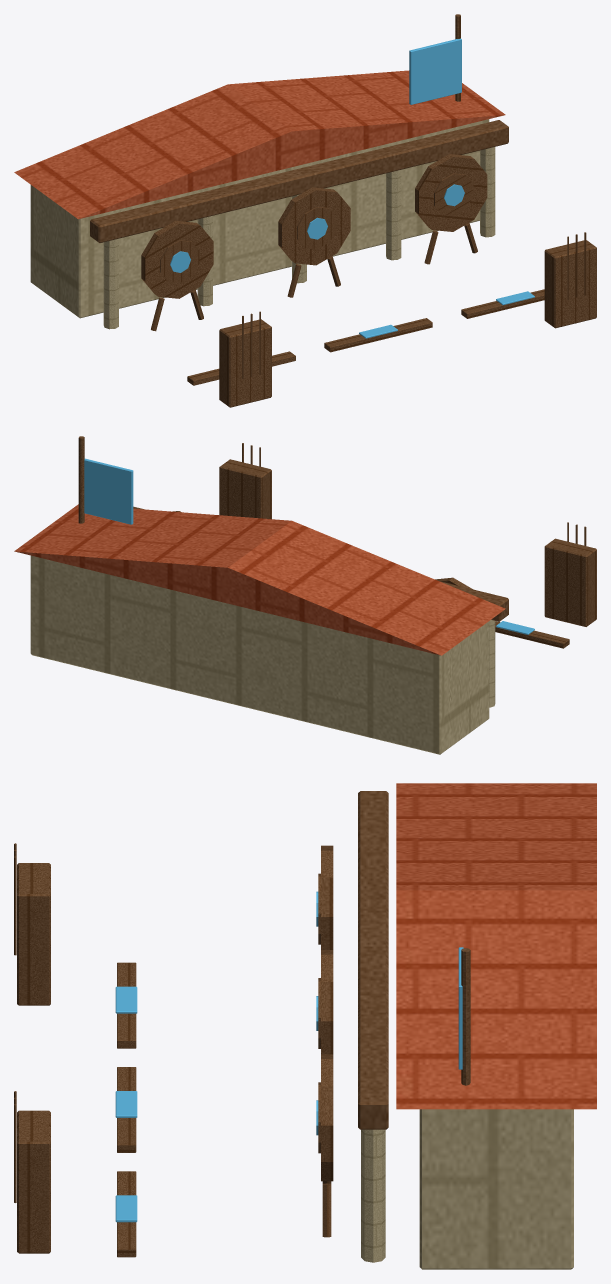
Rendered from edificio-b_000-e1-lod0-omgSOqWW.glb.
The picture shows the model from 3 angles, top to bottom: view 1: azimuth 30°, elevation 25°; view 2: azimuth 150°, elevation 25°; view 3: azimuth 270°, elevation 25°; orthographic projection. The views are drawn at different scales.
Visible parts, largest first — view 1: envolvente_arqueria, team_color; view 2: envolvente_arqueria, team_color; view 3: envolvente_arqueria, team_color.
Part boxes in pixels (x1,y1,x2,y2): envolvente_arqueria: (14, 14, 596, 407); team_color: (170, 38, 534, 338); envolvente_arqueria: (14, 436, 596, 754); team_color: (84, 458, 534, 634); envolvente_arqueria: (14, 783, 596, 1269); team_color: (115, 891, 463, 1222).
Bounding box in the file's own units: 50 × 22.09 × 37.8.
Materials: 2 (1 with a texture image).
